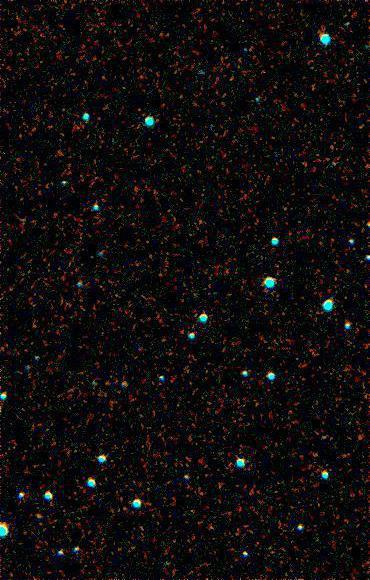star: (95, 369, 125, 399)
